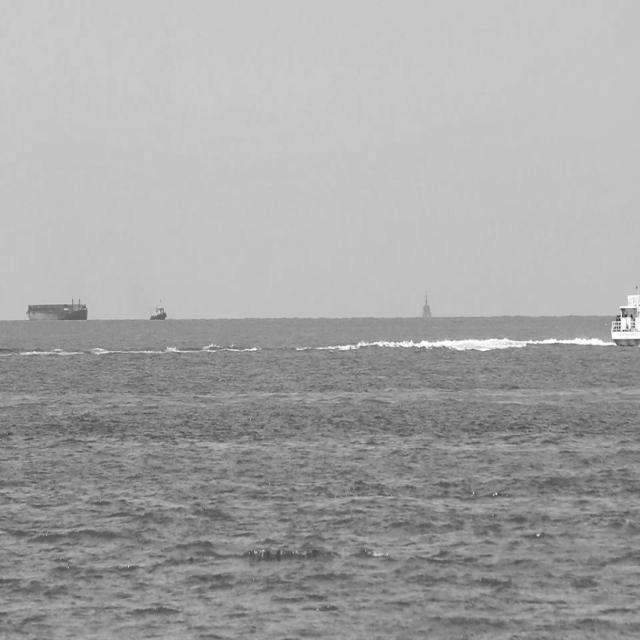ship: (608, 234, 640, 352), (24, 294, 90, 324), (148, 294, 170, 323)
